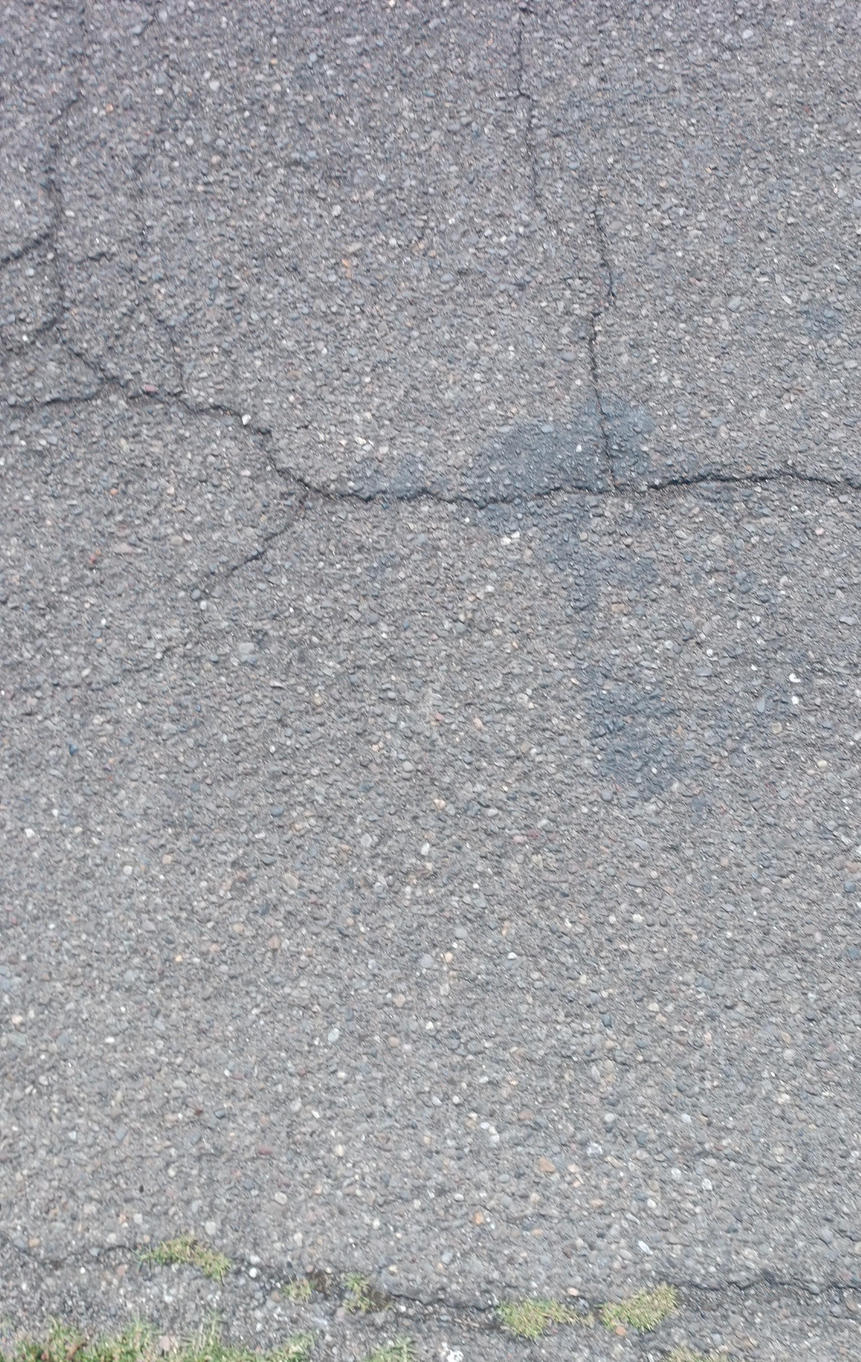GRIETA: (1, 1233, 857, 1345), (202, 405, 860, 512), (9, 628, 226, 714), (514, 2, 565, 241), (222, 493, 310, 589), (588, 211, 618, 486)
PIEL DE COCODRILO: (0, 0, 214, 440)
